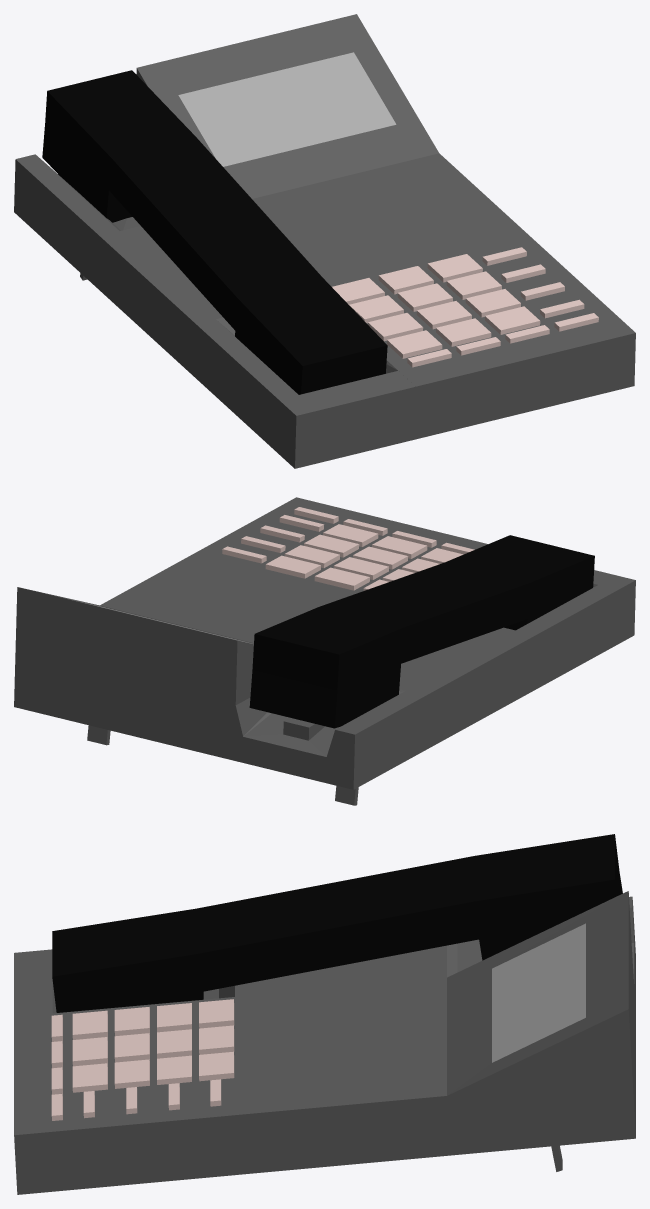
The model's file is Telephone 1.fbx.
The picture shows the model from 3 angles, top to bottom: view 1: azimuth 30°, elevation 25°; view 2: azimuth 150°, elevation 25°; view 3: azimuth 270°, elevation 25°; orthographic projection. The views are drawn at different scales.
Parts seen in each view (by area): view 1: pCube1, pCube24, pCube11, pCube12, pCube13, pCube5, pCube6, pCube3, pCube8, pCube9, pCube4, pCube10 (+2 smaller); view 2: pCube1, pCube24, pCube3, pCube4, pCube12, pCube8, pCube9, pCube5, pCube6, pCube13; view 3: pCube1, pCube24, pCube13, pCube4, pCube8, pCube12, pCube11, pCube2, pCube9, pCube10, pCube3, pCube5 (+2 smaller).
Part boxes in pixels (<box>): pCube1: <box>14,14,635,468</box>; pCube24: <box>42,70,387,394</box>; pCube11: <box>387,330,442,358</box>; pCube12: <box>436,318,491,346</box>; pCube13: <box>485,306,540,334</box>; pCube5: <box>446,271,501,299</box>; pCube6: <box>397,283,452,311</box>; pCube3: <box>378,266,433,294</box>; pCube8: <box>465,289,520,317</box>; pCube9: <box>416,301,471,329</box>; pCube4: <box>427,254,482,282</box>; pCube10: <box>368,313,423,341</box>; pCube1: <box>14,497,635,789</box>; pCube24: <box>249,535,594,728</box>; pCube3: <box>314,567,369,590</box>; pCube4: <box>265,555,320,578</box>; pCube12: <box>372,536,427,558</box>; pCube8: <box>304,534,359,557</box>; pCube9: <box>353,546,408,569</box>; pCube5: <box>284,545,339,567</box>; pCube6: <box>333,557,388,579</box>; pCube13: <box>323,524,378,546</box>; pCube1: <box>14,891,635,1194</box>; pCube24: <box>52,834,622,1012</box>; pCube13: <box>72,1063,107,1092</box>; pCube4: <box>199,1051,234,1081</box>; pCube8: <box>114,1059,149,1088</box>; pCube12: <box>72,1037,107,1066</box>; pCube11: <box>72,1010,107,1039</box>; pCube2: <box>199,999,234,1028</box>; pCube9: <box>114,1033,149,1062</box>; pCube10: <box>114,1007,149,1036</box>; pCube3: <box>199,1025,234,1054</box>; pCube5: <box>157,1055,191,1084</box>.
Size of the model in its own units: 0.1474 by 0.072 by 0.2123.
